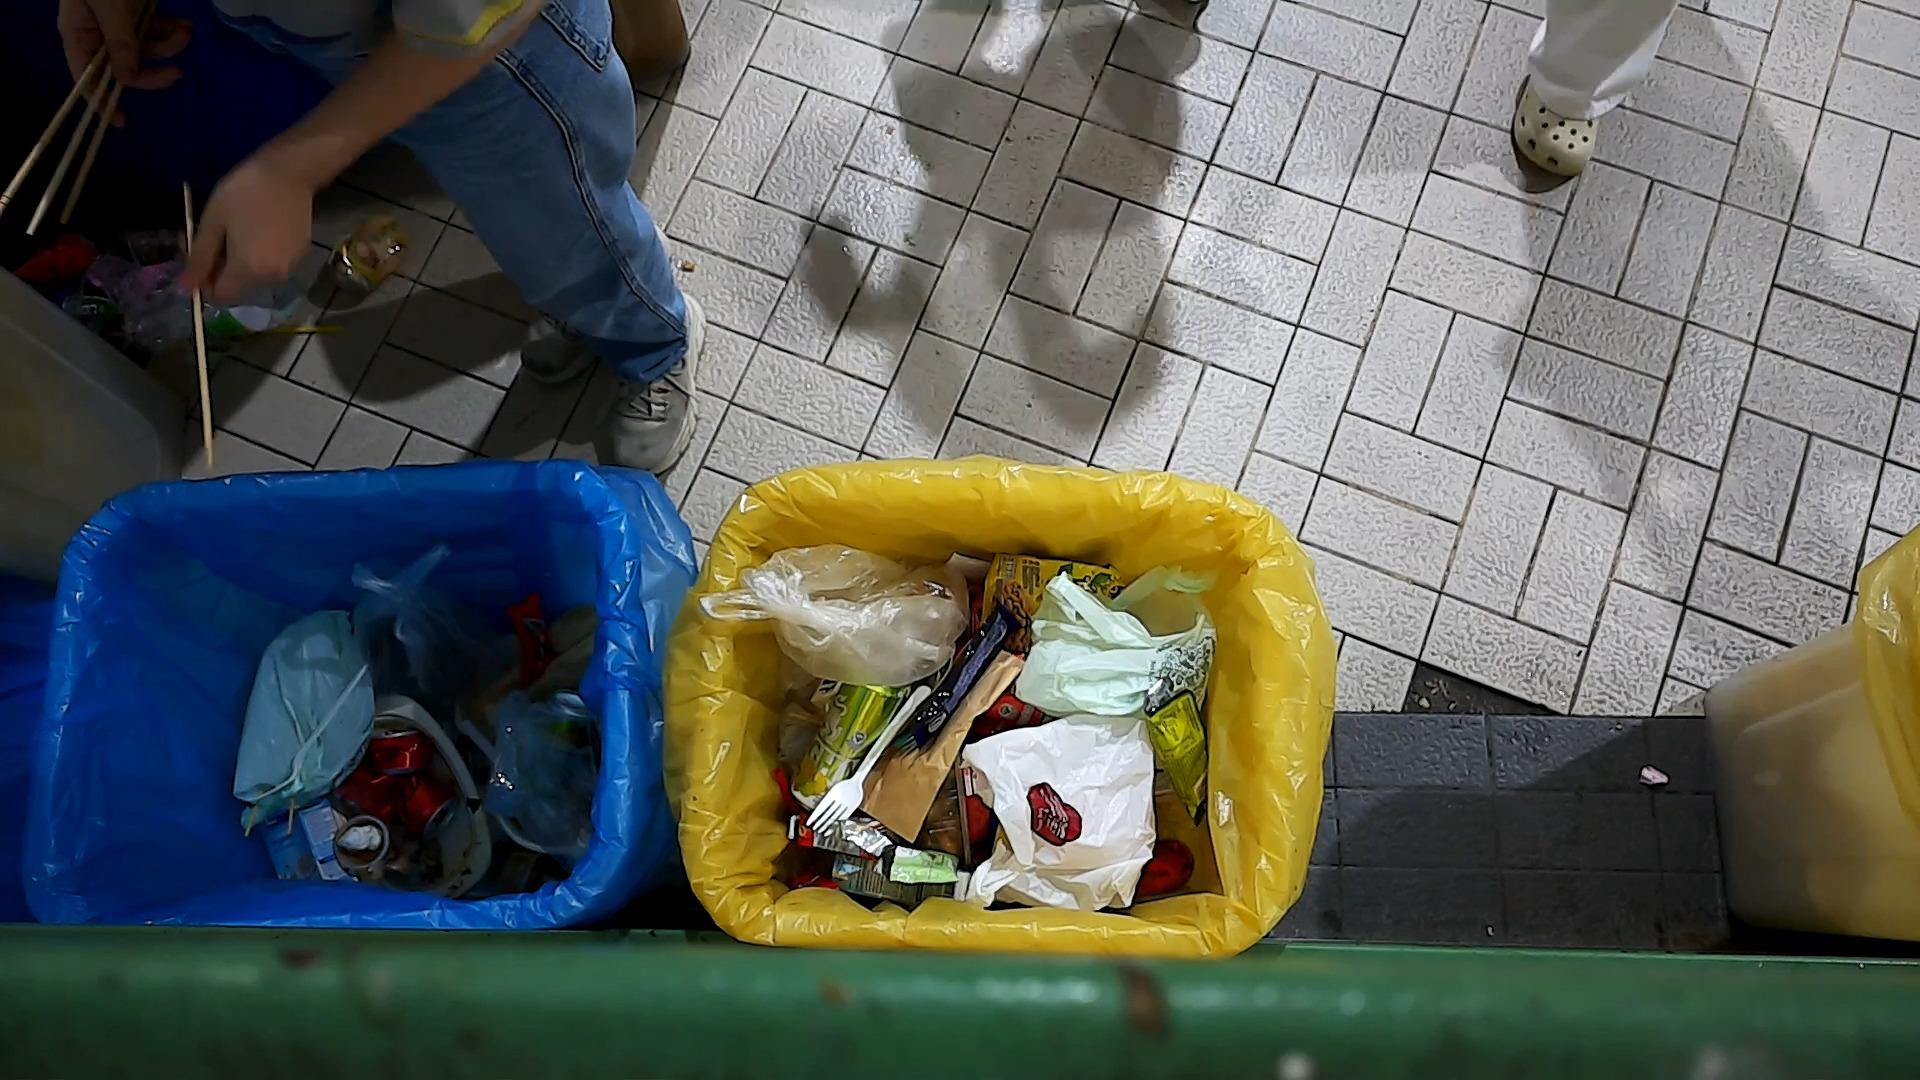can: (794, 667, 922, 811), (332, 727, 456, 840), (364, 728, 439, 779)
dirty food container: (328, 815, 394, 877)
filled plastic bag: (720, 525, 973, 669), (210, 599, 365, 818)
milk carton: (268, 791, 367, 884), (832, 847, 976, 902)
paper bag: (857, 645, 1022, 845), (480, 605, 596, 704)
plastic bag: (964, 708, 1154, 910), (1015, 564, 1220, 721)
plastic cutlery: (804, 686, 932, 836), (256, 670, 367, 818)
snack packaging: (913, 599, 1018, 745), (977, 553, 1121, 657), (1143, 680, 1204, 831), (844, 823, 968, 893), (505, 593, 554, 678)
sticks: (0, 40, 108, 210), (22, 62, 109, 241), (179, 178, 222, 469), (63, 78, 121, 224)
